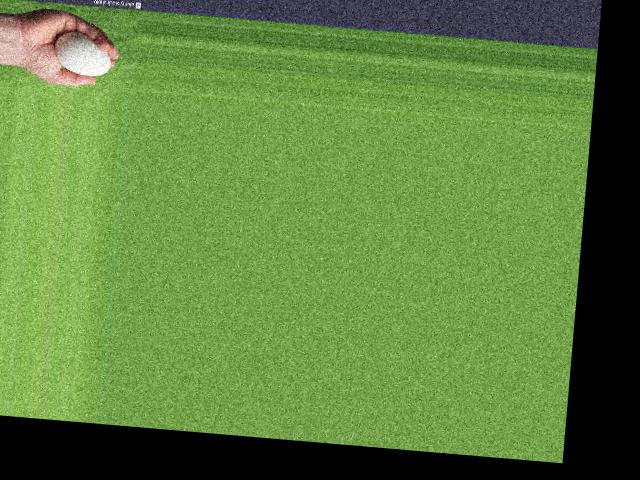egg: (51, 29, 112, 77)
